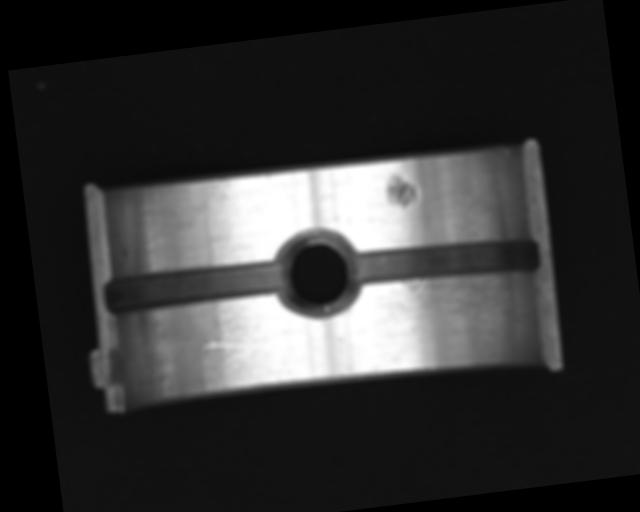bruise: (383, 170, 419, 211)
gap: (346, 228, 541, 296), (103, 256, 290, 319)
hole: (273, 226, 358, 322)
nick: (201, 335, 266, 354)
scratch: (353, 263, 533, 358)
